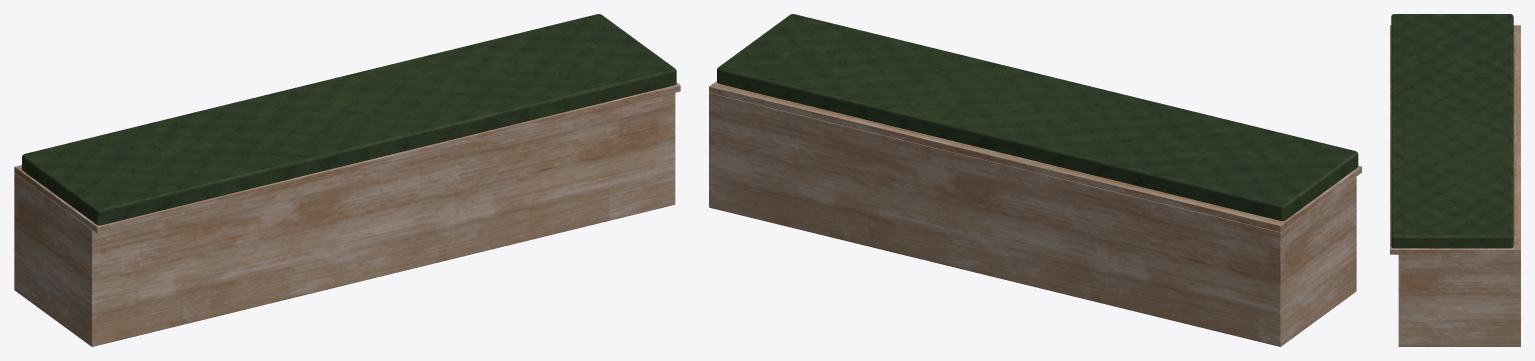
Rendered from balcony_bench_seat.glb.
3 views of the same model, side by side, from view 1: azimuth 30°, elevation 25°; view 2: azimuth 150°, elevation 25°; view 3: azimuth 270°, elevation 25° (orthographic). The views are drawn at different scales.
Parts seen in each view (by area): view 1: Object_24, Object_21, Object_22; view 2: Object_24, Object_21, Object_22; view 3: Object_21, Object_24, Object_22.
Part boxes in pixels (bbox=[...]): Object_24: bbox=[14, 93, 675, 346]; Object_21: bbox=[22, 14, 676, 225]; Object_22: bbox=[14, 82, 680, 233]; Object_24: bbox=[709, 93, 1356, 346]; Object_21: bbox=[717, 14, 1358, 220]; Object_22: bbox=[709, 81, 1361, 231]; Object_21: bbox=[1391, 14, 1513, 248]; Object_24: bbox=[1398, 254, 1520, 346]; Object_22: bbox=[1390, 25, 1520, 254].
Bounding box in the file's own units: 2.4 × 0.548 × 0.591.
3 materials, 3 textured.
